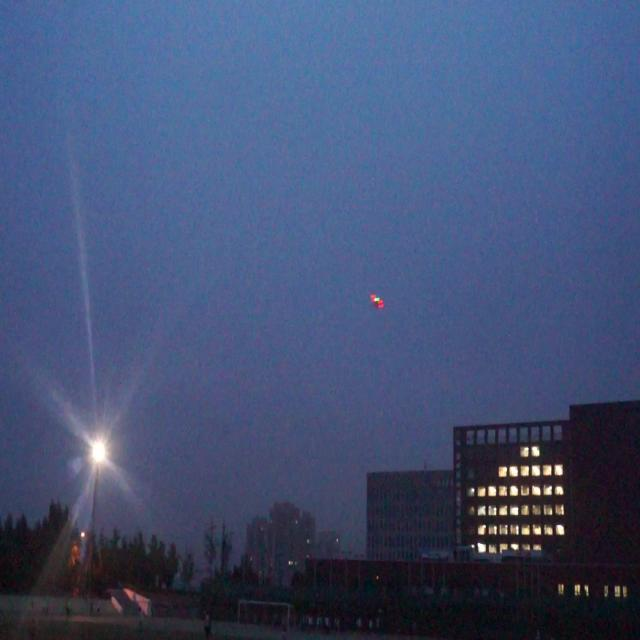drone: (366, 290, 388, 314)
